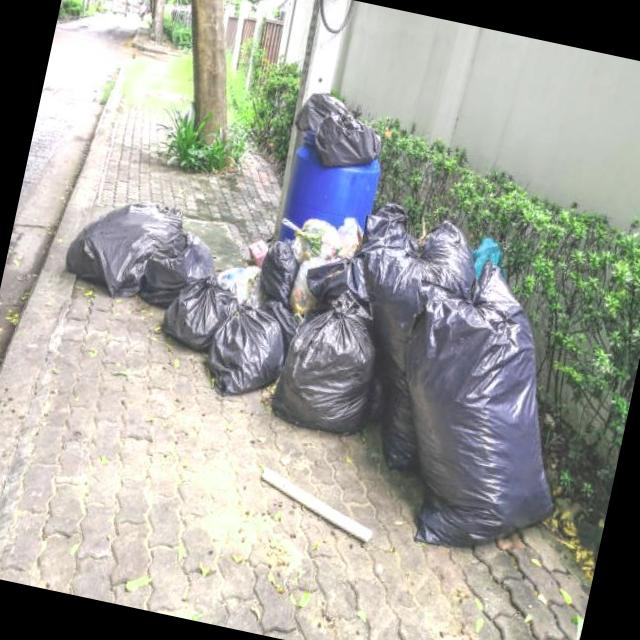high trash: (66, 203, 552, 546)
less trash: (295, 93, 380, 167)
